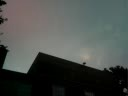window: (52, 85, 63, 96), (86, 91, 99, 96)
